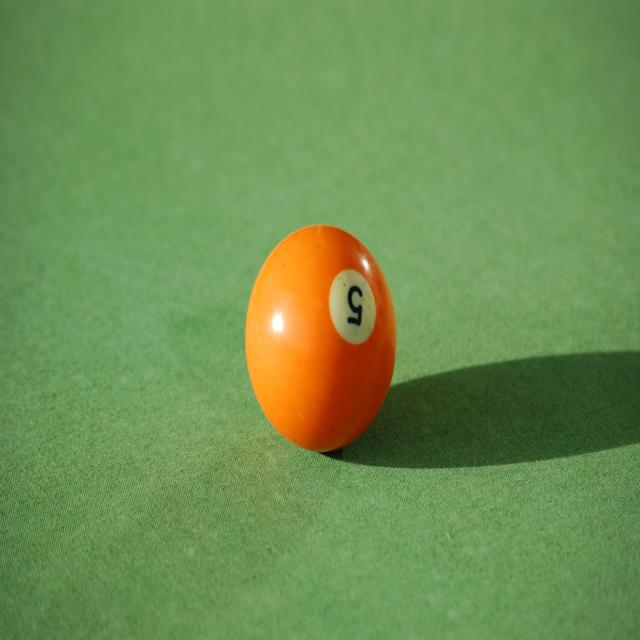Ball: (245, 227, 395, 450)
